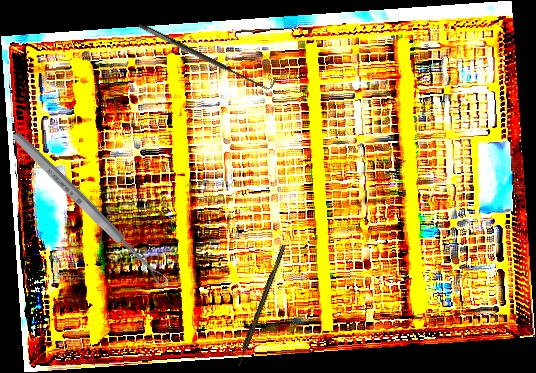Hook Surgical: (136, 12, 279, 97), (235, 244, 287, 367)
Surgical Spoon: (9, 128, 171, 291)
